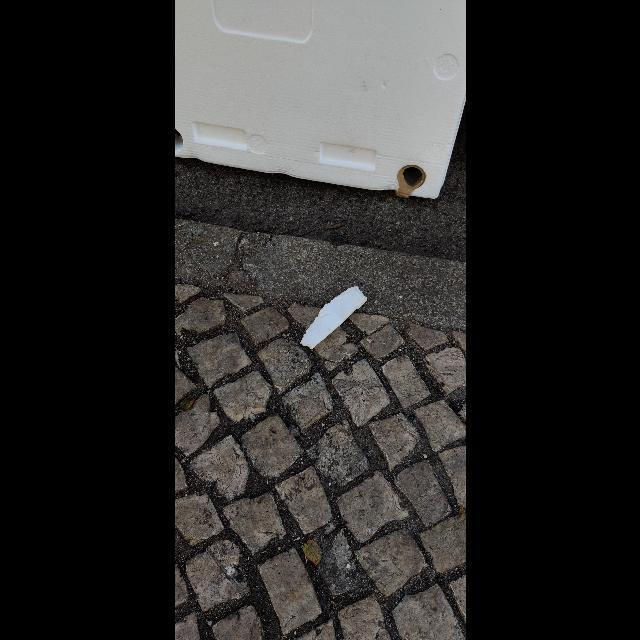Plastic: (174, 0, 466, 198), (299, 286, 366, 348)
